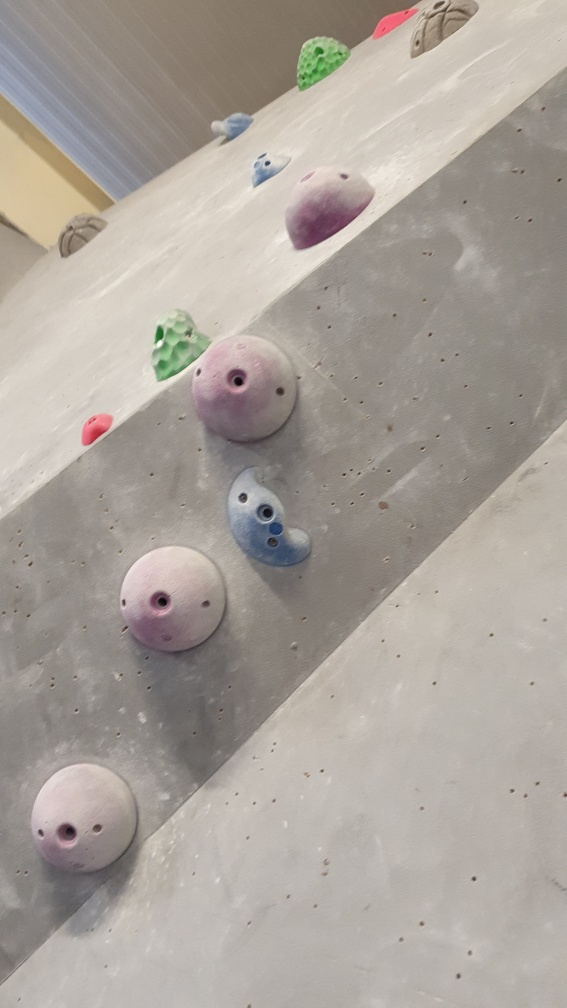Jug: (224, 465, 316, 567), (150, 310, 211, 380), (208, 112, 254, 141)
Sloper: (191, 333, 301, 448), (31, 763, 141, 876), (123, 544, 228, 655), (283, 162, 379, 249)
